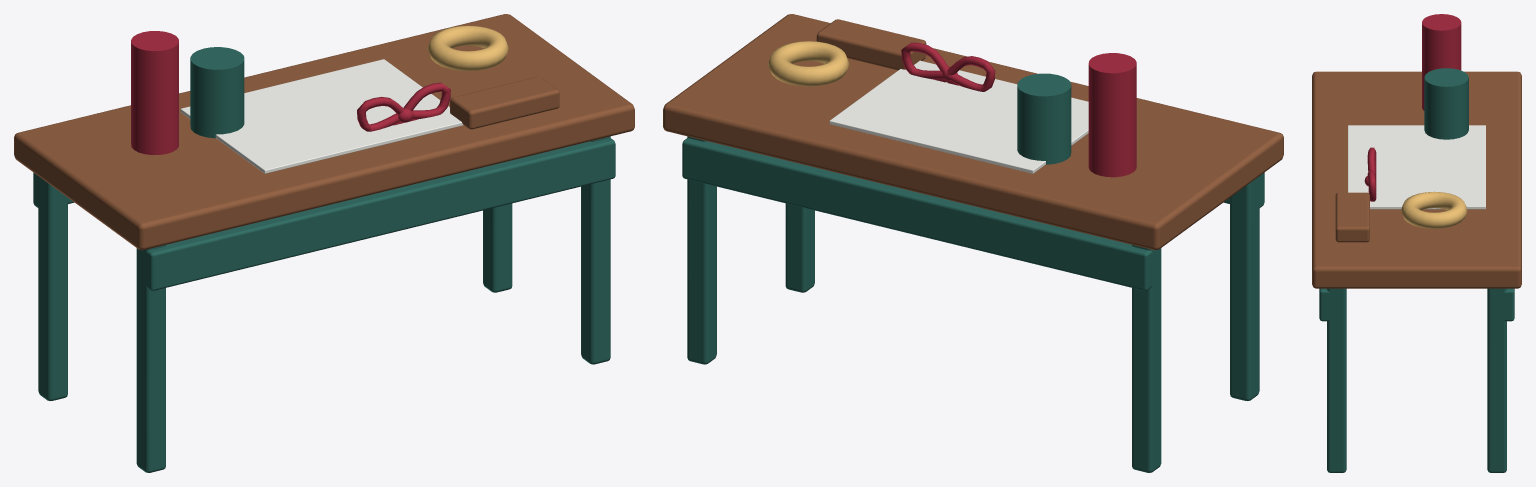
Rendered from christmas-storybook-gift-wrapping-station-f934aa1f__18771.glb.
The picture shows the model from 3 angles, left to right: view 1: azimuth 30°, elevation 25°; view 2: azimuth 150°, elevation 25°; view 3: azimuth 270°, elevation 25°; orthographic projection. The views are drawn at different scales.
Parts seen in each view (by area): view 1: oak, pine, cream, berry, brass; view 2: oak, pine, cream, berry, brass; view 3: oak, pine, cream, berry, brass.
Boxes of the visible parts, x1,y1,x2,y2 form: oak: (14, 14, 634, 250); pine: (33, 47, 615, 472); cream: (180, 59, 463, 173); berry: (131, 31, 450, 154); brass: (427, 25, 508, 70); oak: (663, 14, 1283, 250); pine: (682, 73, 1264, 472); cream: (829, 60, 1088, 173); berry: (901, 42, 1136, 177); brass: (768, 41, 849, 86); oak: (1312, 71, 1521, 288); pine: (1319, 68, 1514, 472); cream: (1348, 125, 1485, 209); berry: (1364, 14, 1461, 201); brass: (1401, 191, 1467, 228).
Bounding box in the file's own units: 1.9 × 1.33 × 0.8499.
